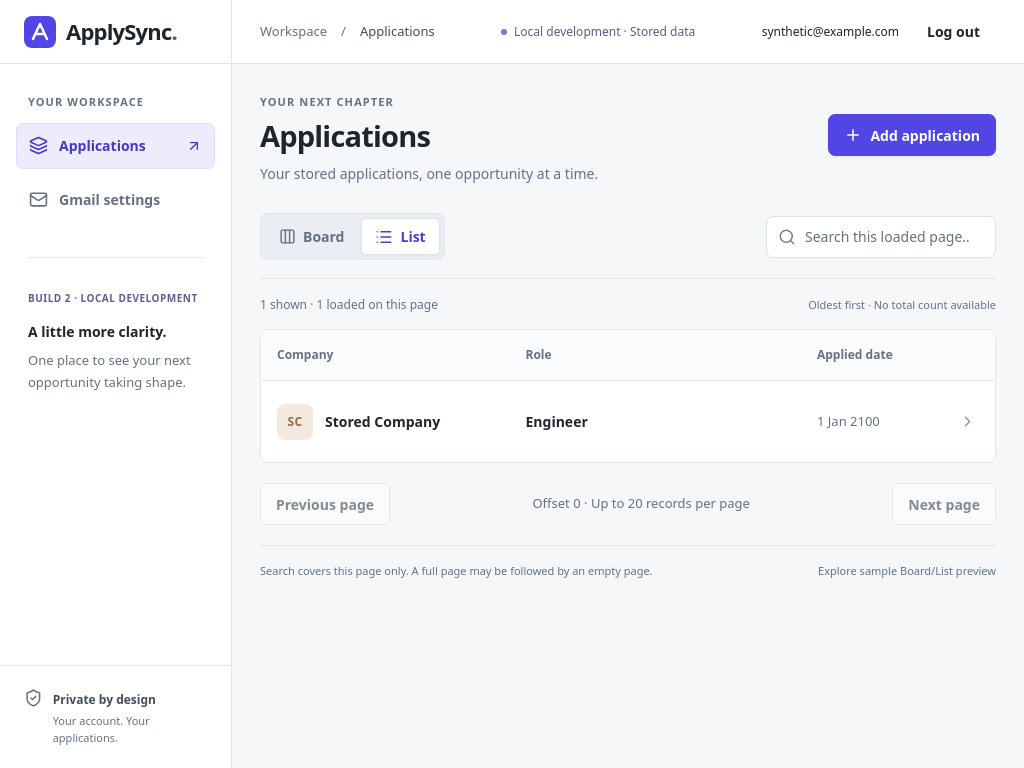
Test: lists real records without stage controls and clearly scopes search/counts
Expected: the link with aria-label "Engineer at Stored Company" is shown, [261,380,995,462]
Expected: the text "Local development · Stored data" is shown, [501,22,695,40]
Type "no-match" into the search field at (881, 237), box [766,216,996,258]
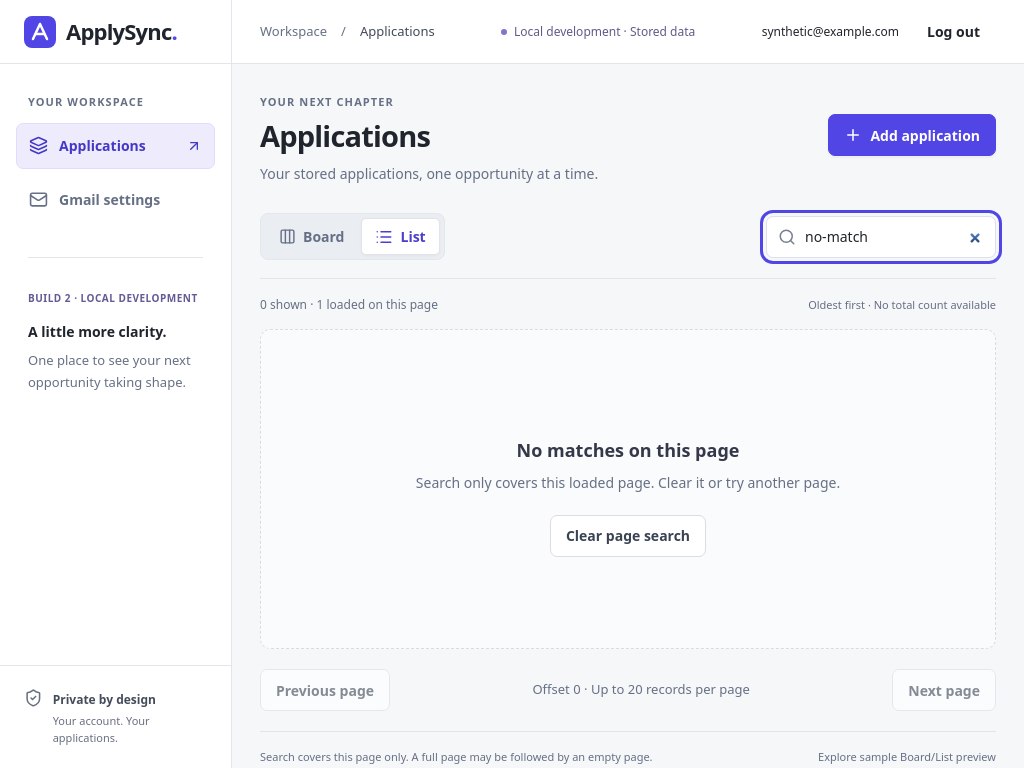
Expected: the text "Oldest first · No total count available" is shown, [808,297,996,313]
Result: the heading "No matches on this page" is shown at [517,437,740,464]
